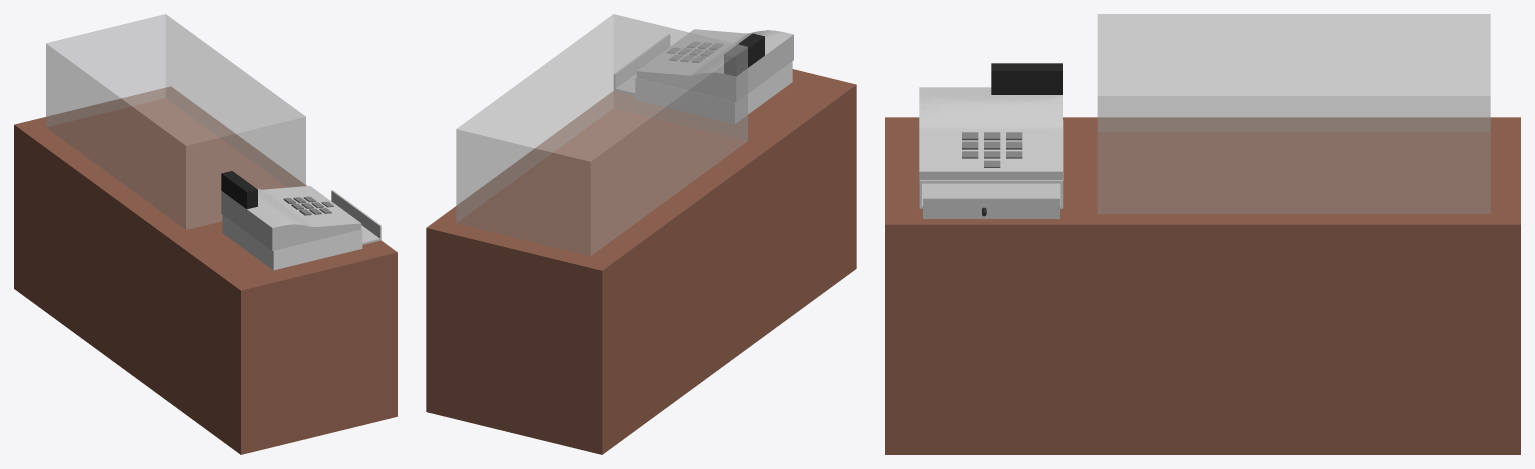
File: kasa.fbx
3 views of the same model, side by side, from view 1: azimuth 30°, elevation 25°; view 2: azimuth 150°, elevation 25°; view 3: azimuth 270°, elevation 25° (orthographic). The views are drawn at different scales.
Visible parts, largest first — view 1: Cube, Cube.001, Plane.001, Plane, Cylinder; view 2: Cube, Cube.001, Plane.001, Plane, Cylinder; view 3: Cube, Cube.001, Plane.001, Cylinder, Plane.
Boxes of the visible parts, x1=… form: Cube: x1=14, y1=86, x2=397, y2=454; Cube.001: x1=46, y1=14, x2=305, y2=229; Plane.001: x1=221, y1=171, x2=361, y2=250; Plane: x1=222, y1=214, x2=362, y2=270; Cylinder: x1=331, y1=190, x2=381, y2=244; Cube: x1=426, y1=69, x2=856, y2=454; Cube.001: x1=456, y1=14, x2=747, y2=255; Plane.001: x1=637, y1=29, x2=793, y2=101; Plane: x1=635, y1=61, x2=792, y2=123; Cylinder: x1=614, y1=34, x2=669, y2=95; Cube: x1=885, y1=117, x2=1520, y2=454; Cube.001: x1=1097, y1=14, x2=1490, y2=213; Plane.001: x1=919, y1=63, x2=1062, y2=180; Cylinder: x1=923, y1=183, x2=1059, y2=218; Plane: x1=919, y1=120, x2=1063, y2=208.
Size of the model in its own units: 205 by 302 by 501.
